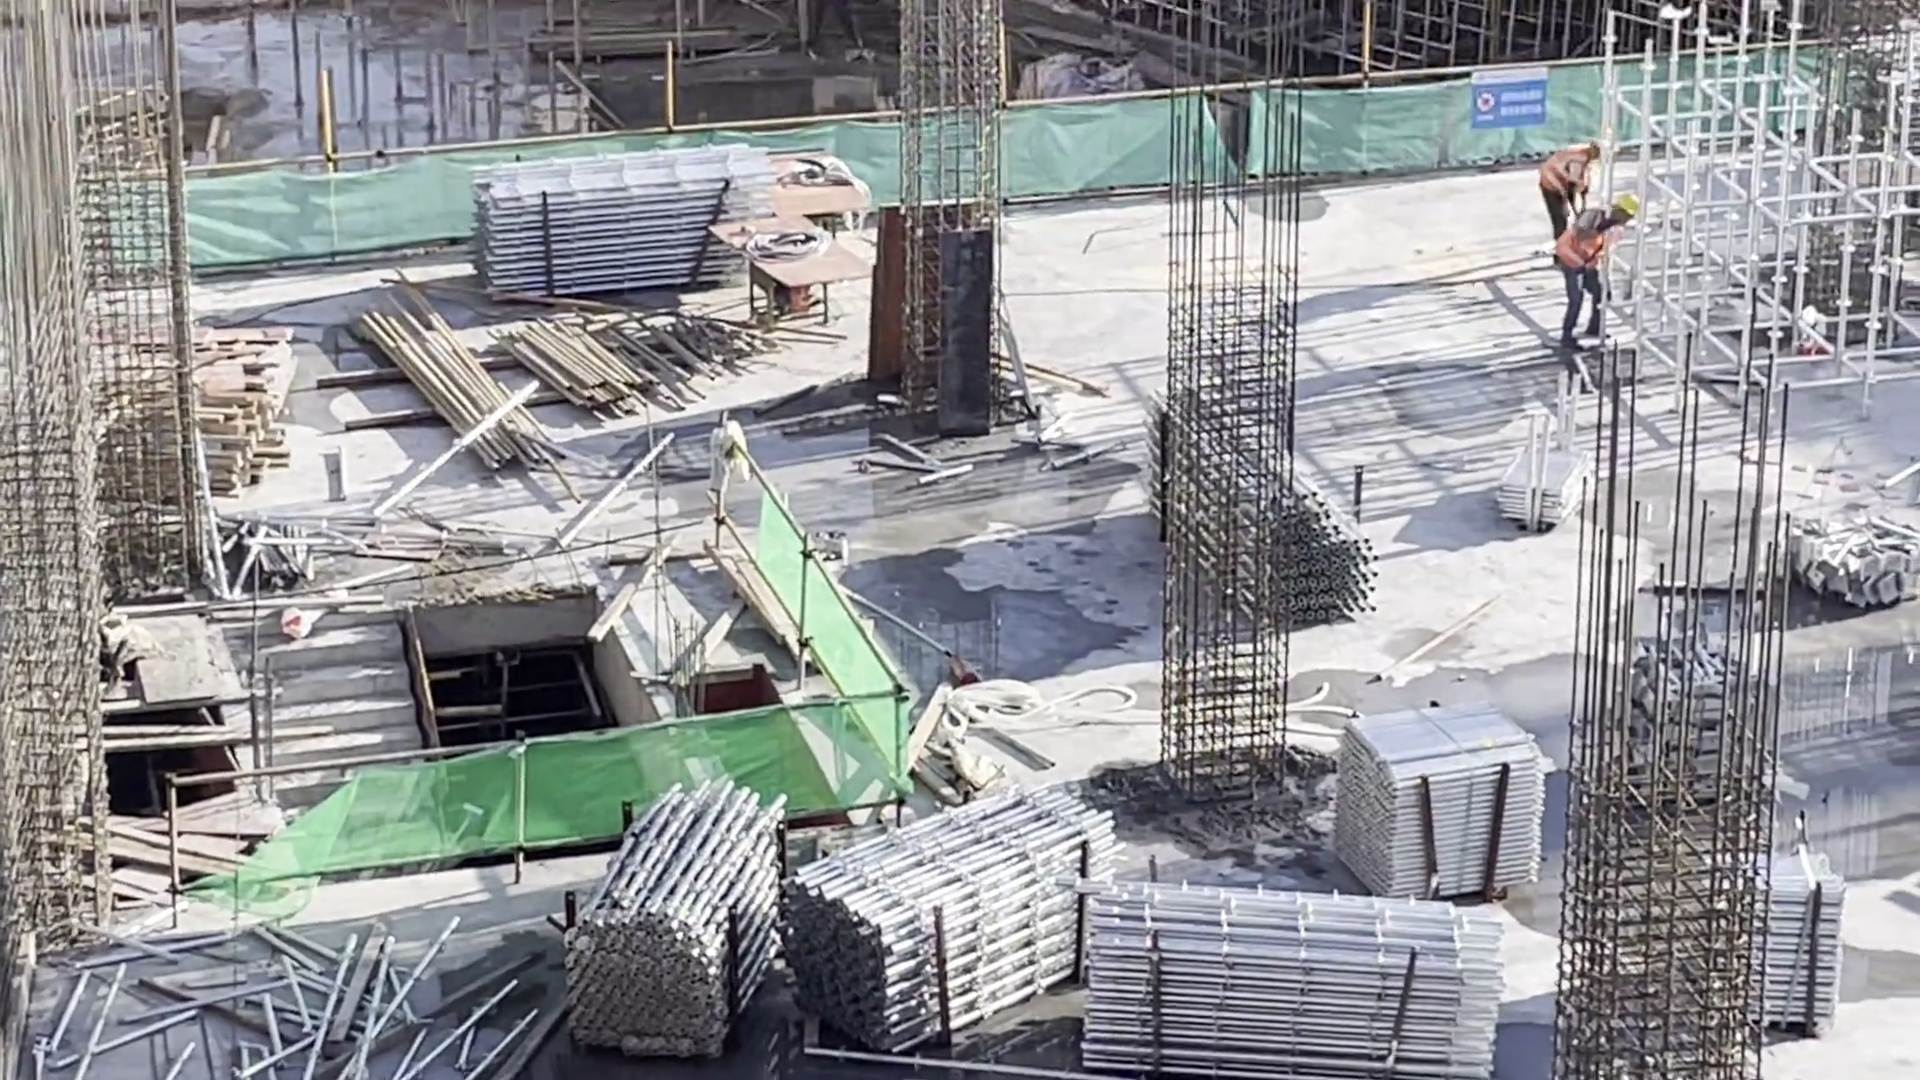cutter: (745, 218, 851, 344), (770, 147, 878, 222)
helmet: (1611, 192, 1640, 217)
person: (1547, 190, 1633, 353), (1532, 131, 1609, 245)
scaffold: (803, 792, 1103, 1014), (1080, 917, 1497, 1060), (1171, 400, 1378, 615), (584, 793, 745, 1045), (1354, 709, 1531, 894), (471, 169, 771, 276), (1711, 868, 1835, 1041), (1505, 414, 1601, 535)
slogan: (1473, 70, 1543, 131)
vest: (1553, 208, 1612, 272), (1545, 151, 1598, 211)
wood: (97, 409, 275, 500)
